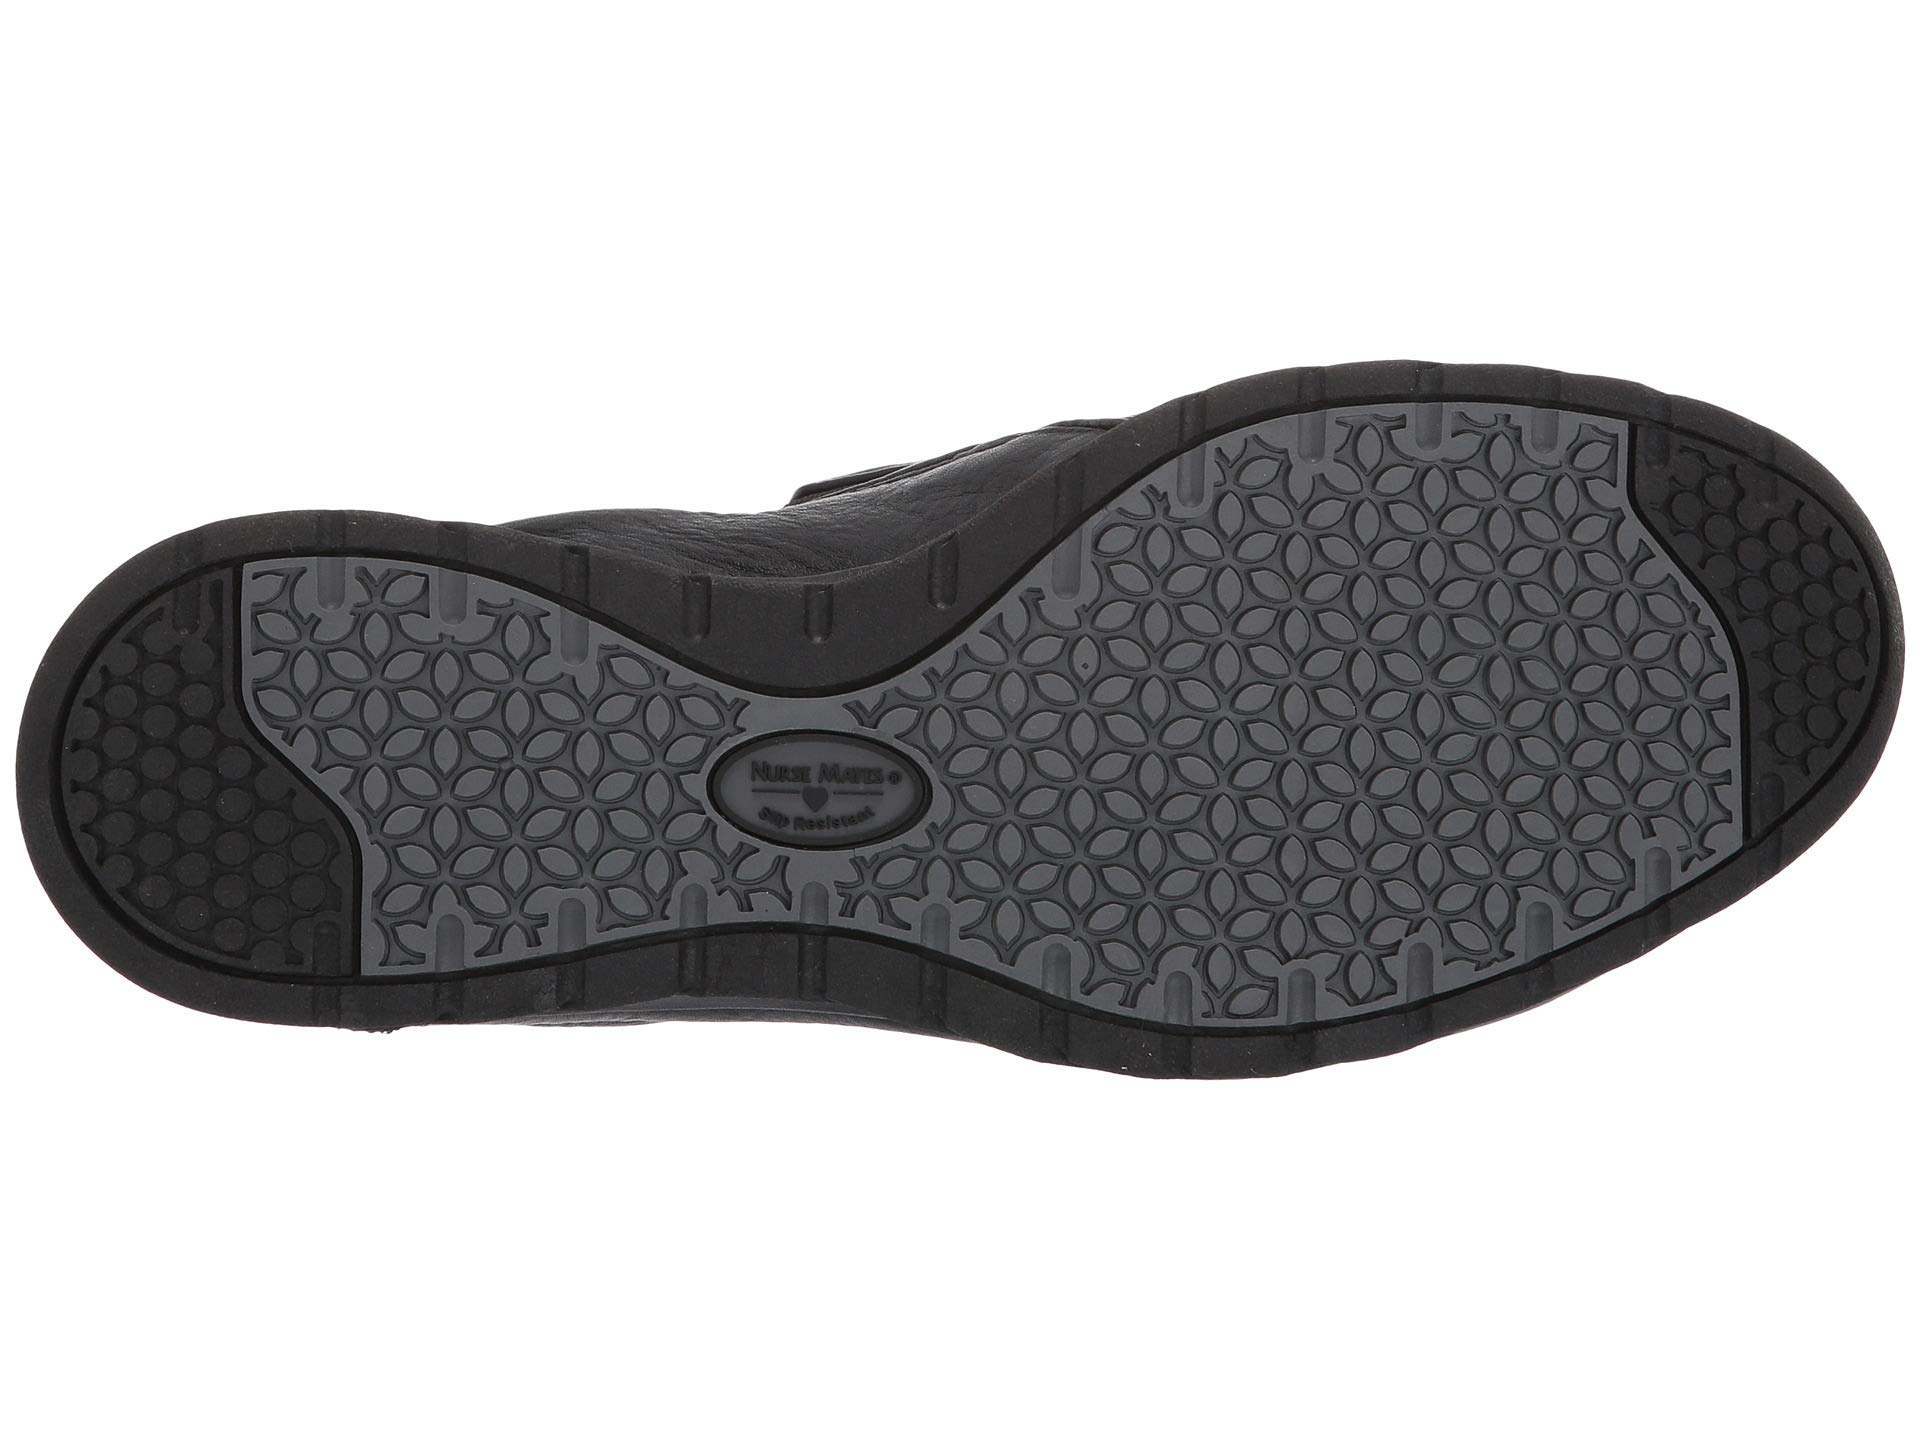circle: (76, 666, 286, 926), (701, 712, 909, 843)
line: (76, 666, 286, 926), (701, 712, 909, 843)
other: (1137, 505, 1604, 889), (76, 666, 286, 926)
quad: (682, 604, 922, 652)
text: (701, 712, 909, 843)
